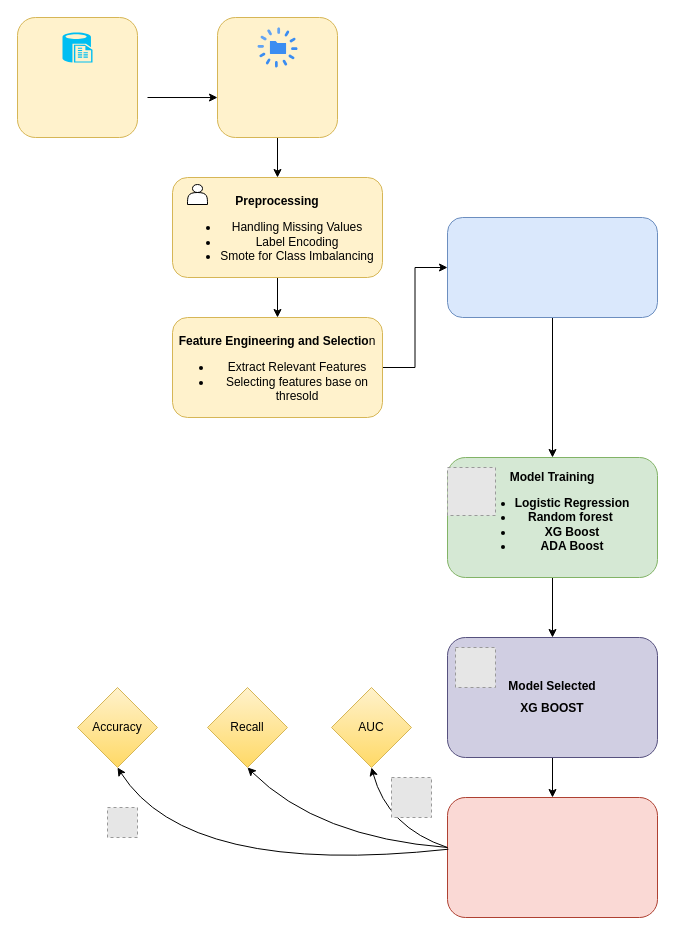
The diagram is 675 pixels wide and 935 high, and some of its shapes have lost their labels. Grey dashed boxes stand in for pictures. The box of each missing label's shape, as (x1, y1, x2, y2) in pixels:
Data Splitting 80% and 20% training: (446, 216, 658, 318)
Dataset (Clinical Records): (16, 16, 138, 138)
Dataset Loading: (216, 16, 338, 138)
Model Evaluaton: (446, 796, 658, 918)
